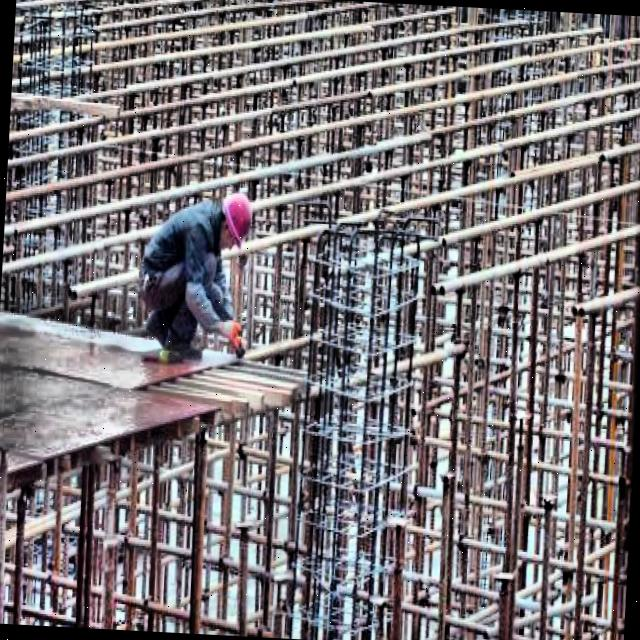helmet: (217, 189, 259, 256)
